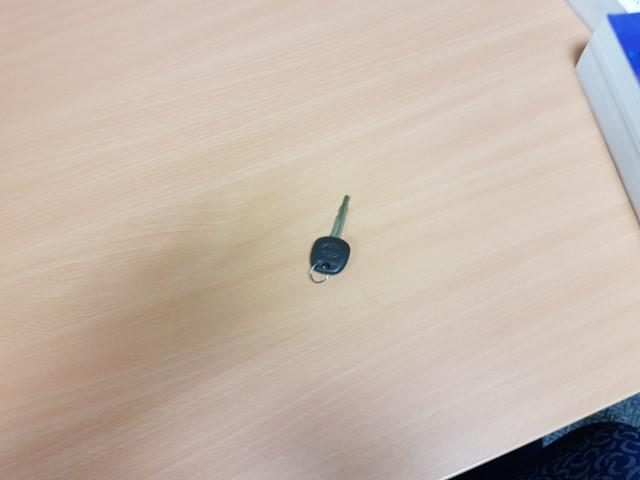key: (312, 195, 351, 274)
